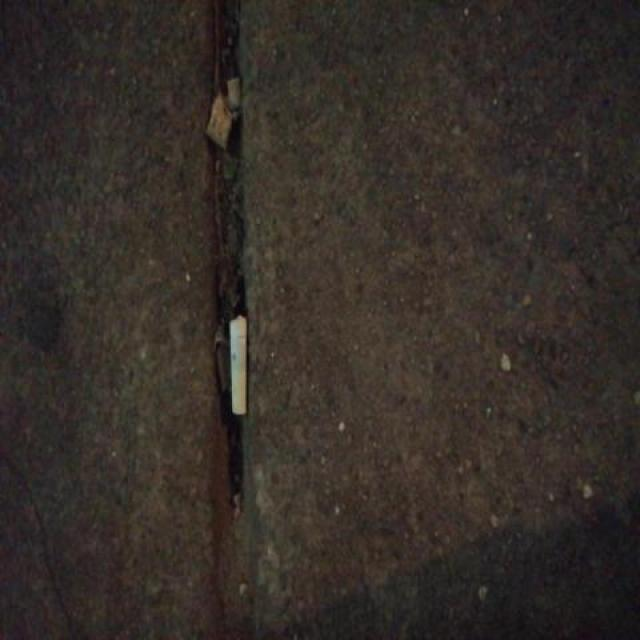non-organic waste: (228, 310, 252, 421)
